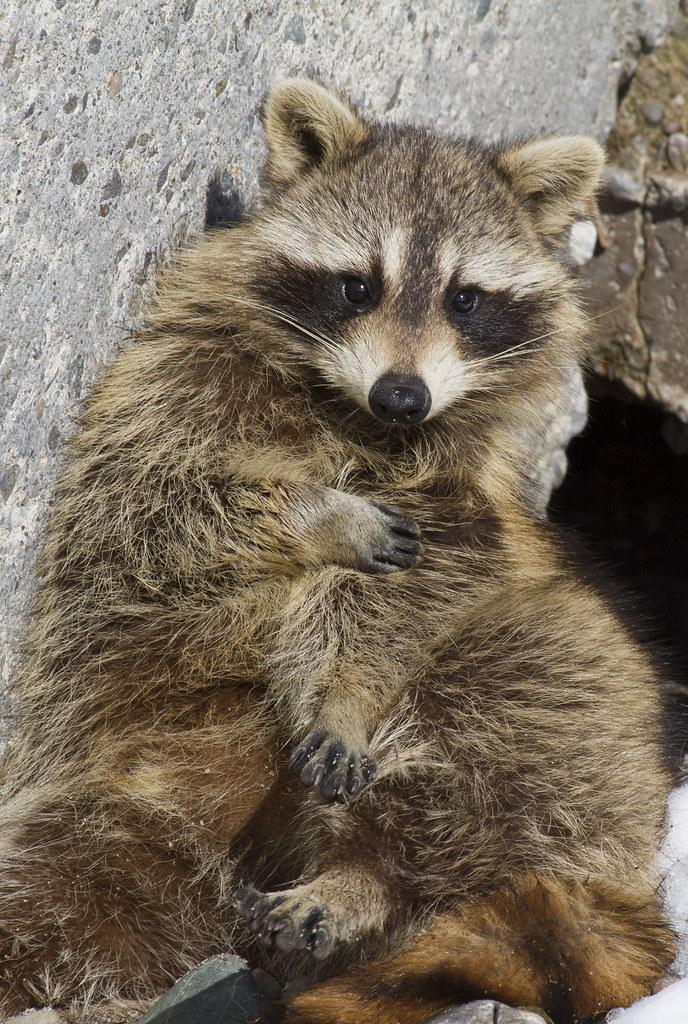raccoon: (1, 81, 676, 1017)
